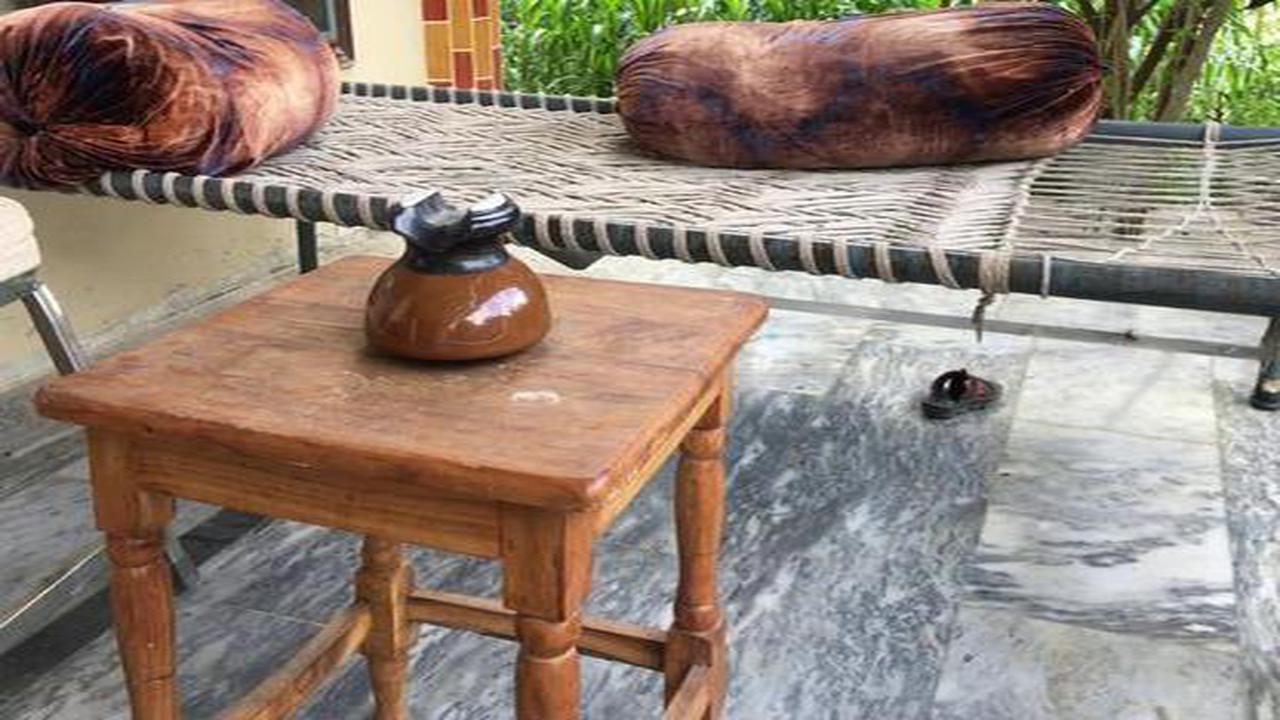insulator_pin: (348, 177, 570, 380)
